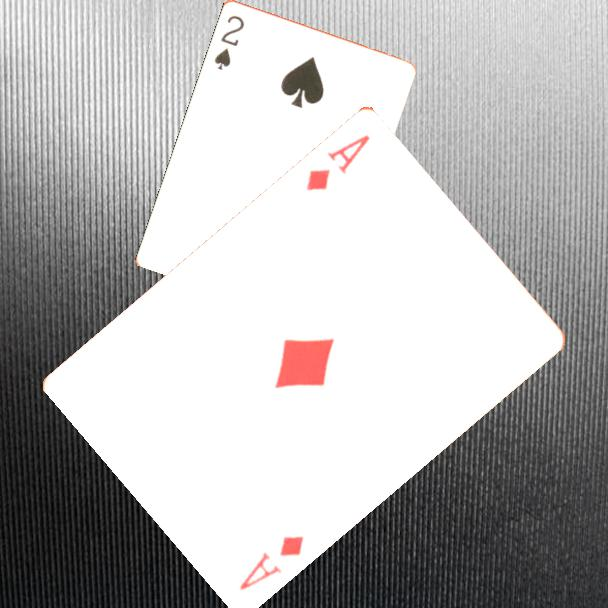d01: (302, 130, 373, 194), (236, 531, 307, 593)
s02: (210, 11, 247, 72)
